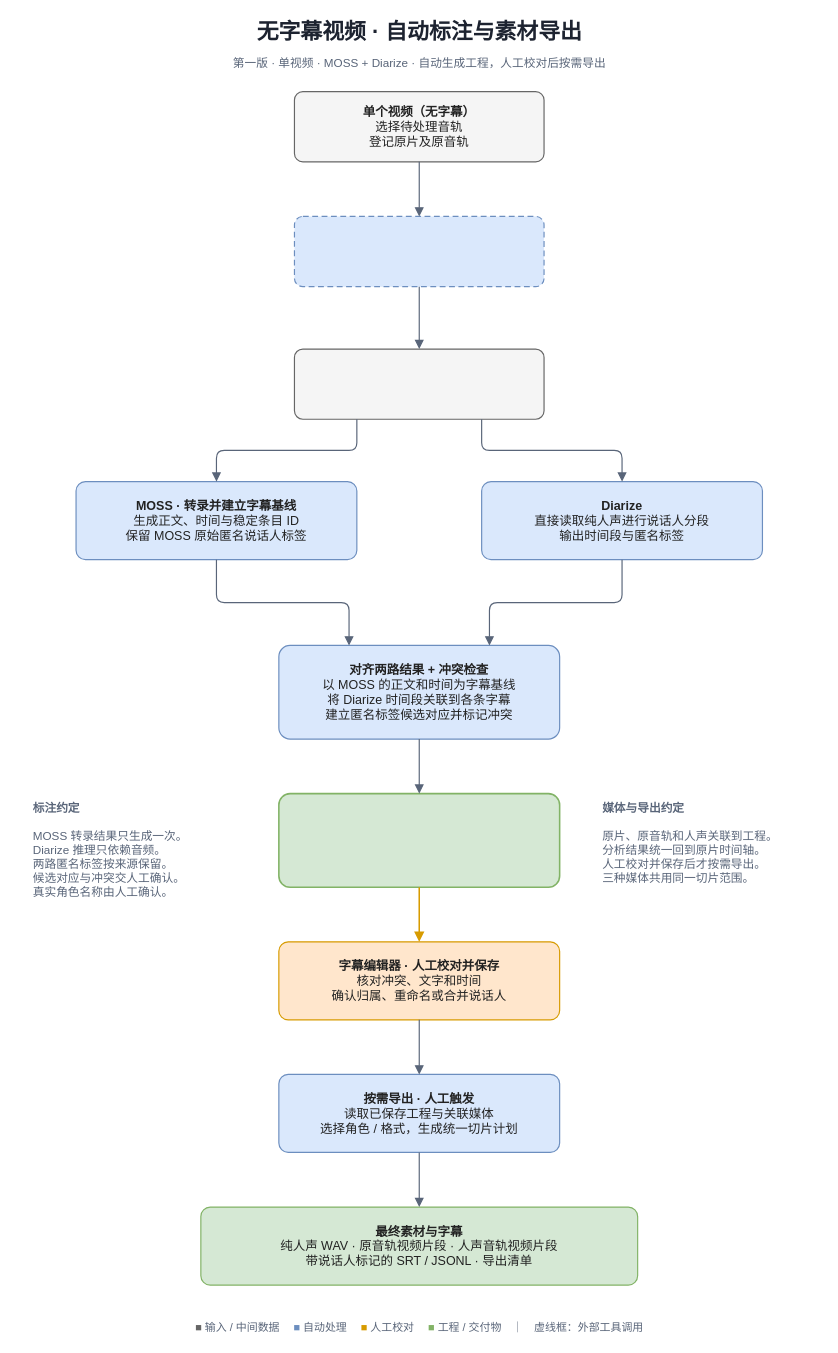
Some shapes in this 838 by 1353 pixel diagram are drawn without their labels. Each missing label, with the box of its shape:
纯人声 保留原片时间基准 供两路分析与后续导出复用: (294, 348, 544, 419)
自动生成可校对工程 工作字幕 + 两路证据 + 待复核标记 关联原片 / 原音轨 / 纯人声 自动流程在此结束: (278, 792, 560, 888)
调用现有人声分离工具 输入选定的原音轨 记录输出路径与时间偏移: (294, 216, 544, 287)
